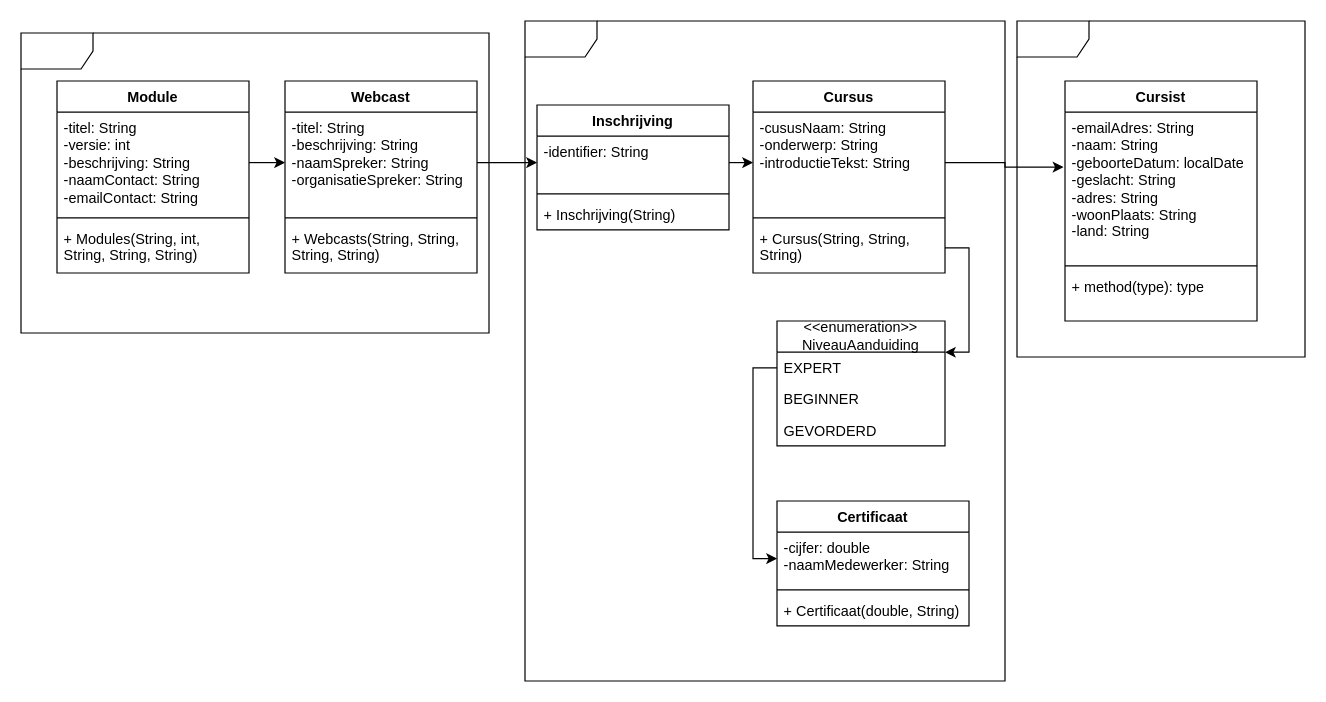
Some shapes in this 1326 by 702 pixel diagram are drawn without their labels. The box of each missing label's shape, as (x1, y1, x2, y2) in pixels:
Cursisten: (1016, 20, 1305, 357)
Cursuses: (524, 20, 1005, 681)
Modules: (20, 32, 489, 333)
